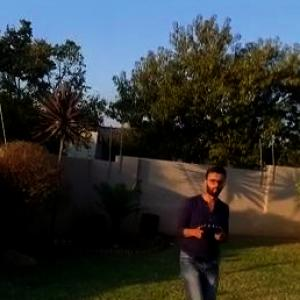follow: (172, 162, 234, 299)
